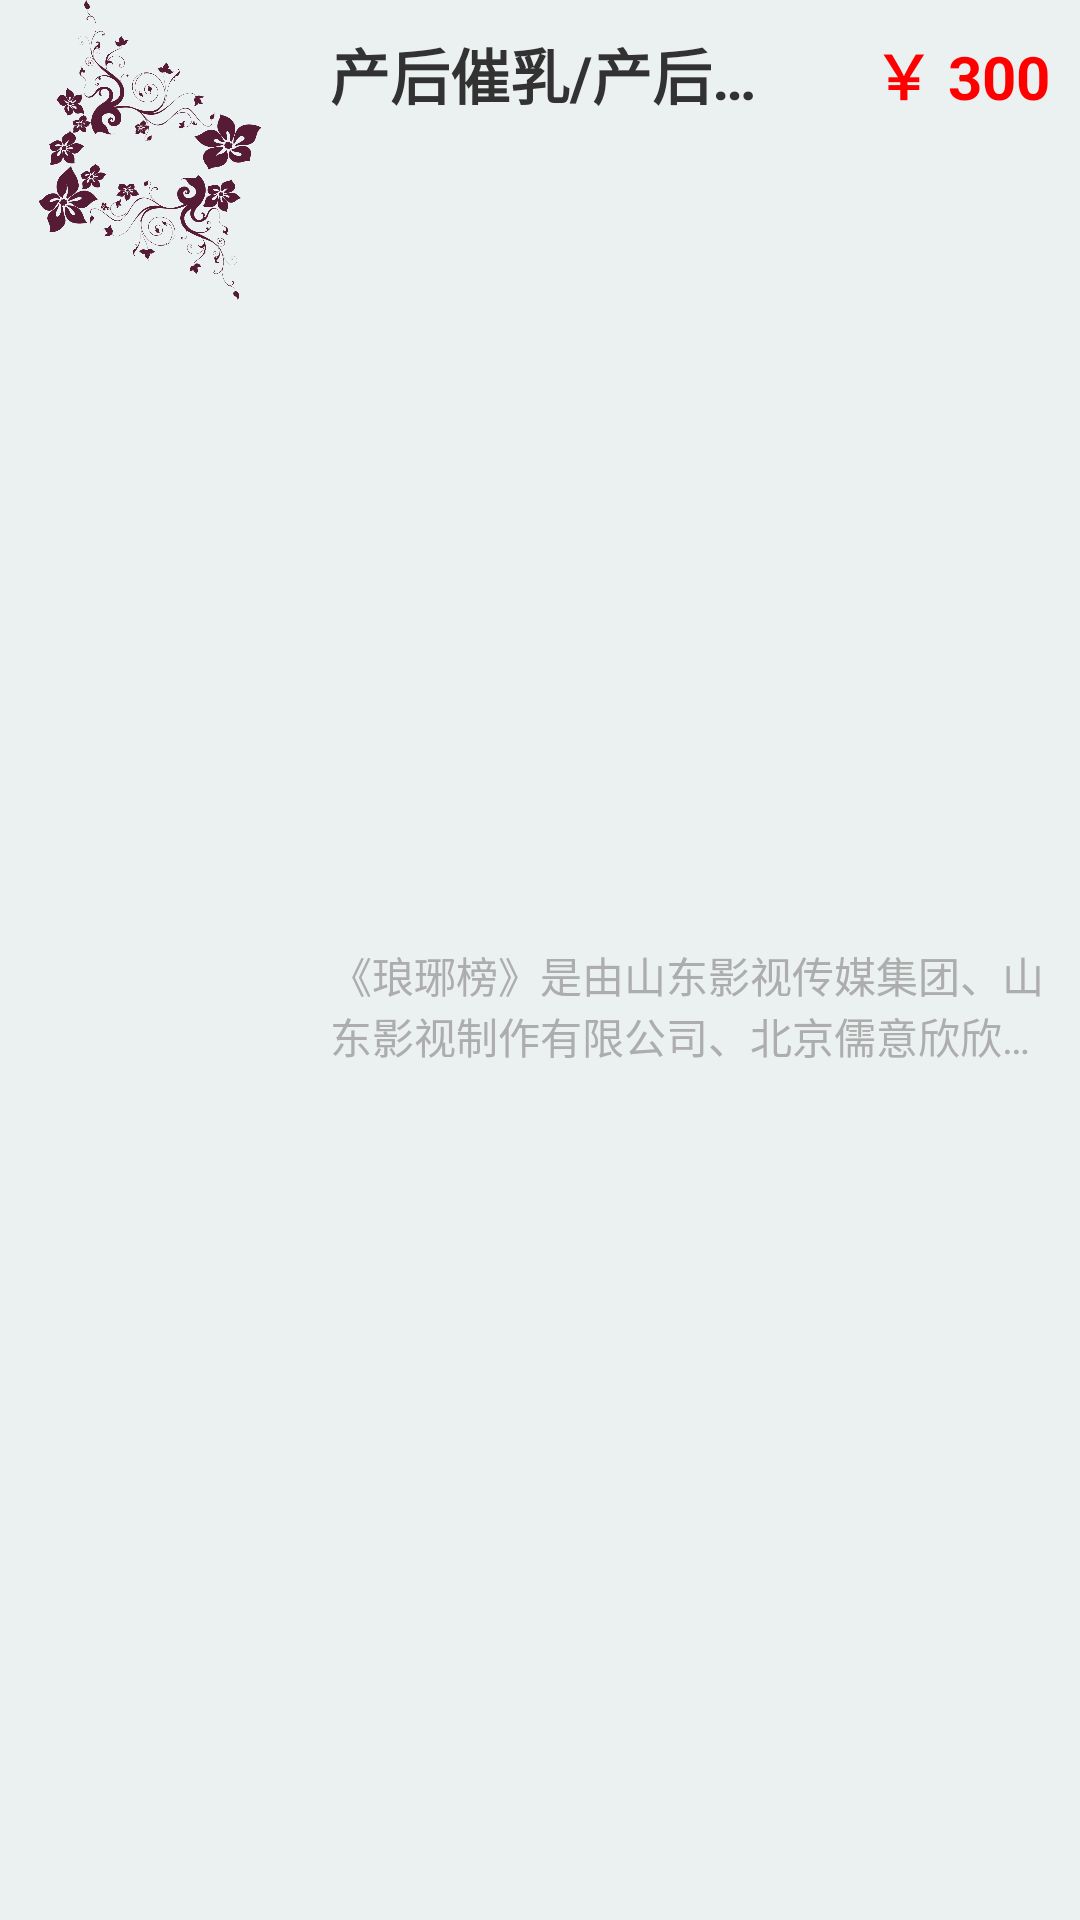

Locate icon controls on the screen. Image size 1080w x 1920h, boxes as {"x1": x1, "y1": y1, "x2": x2, "y2": y2}.
homepage pic: {"x1": 39, "y1": 0, "x2": 261, "y2": 300}
